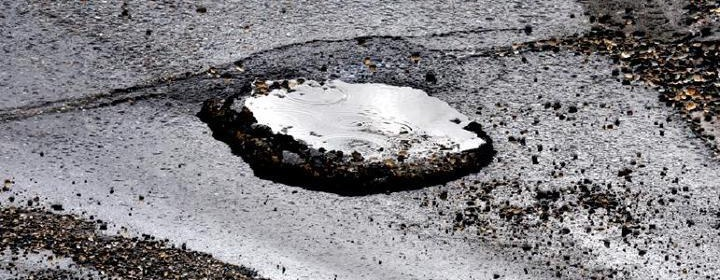pothole: (190, 76, 503, 201)
